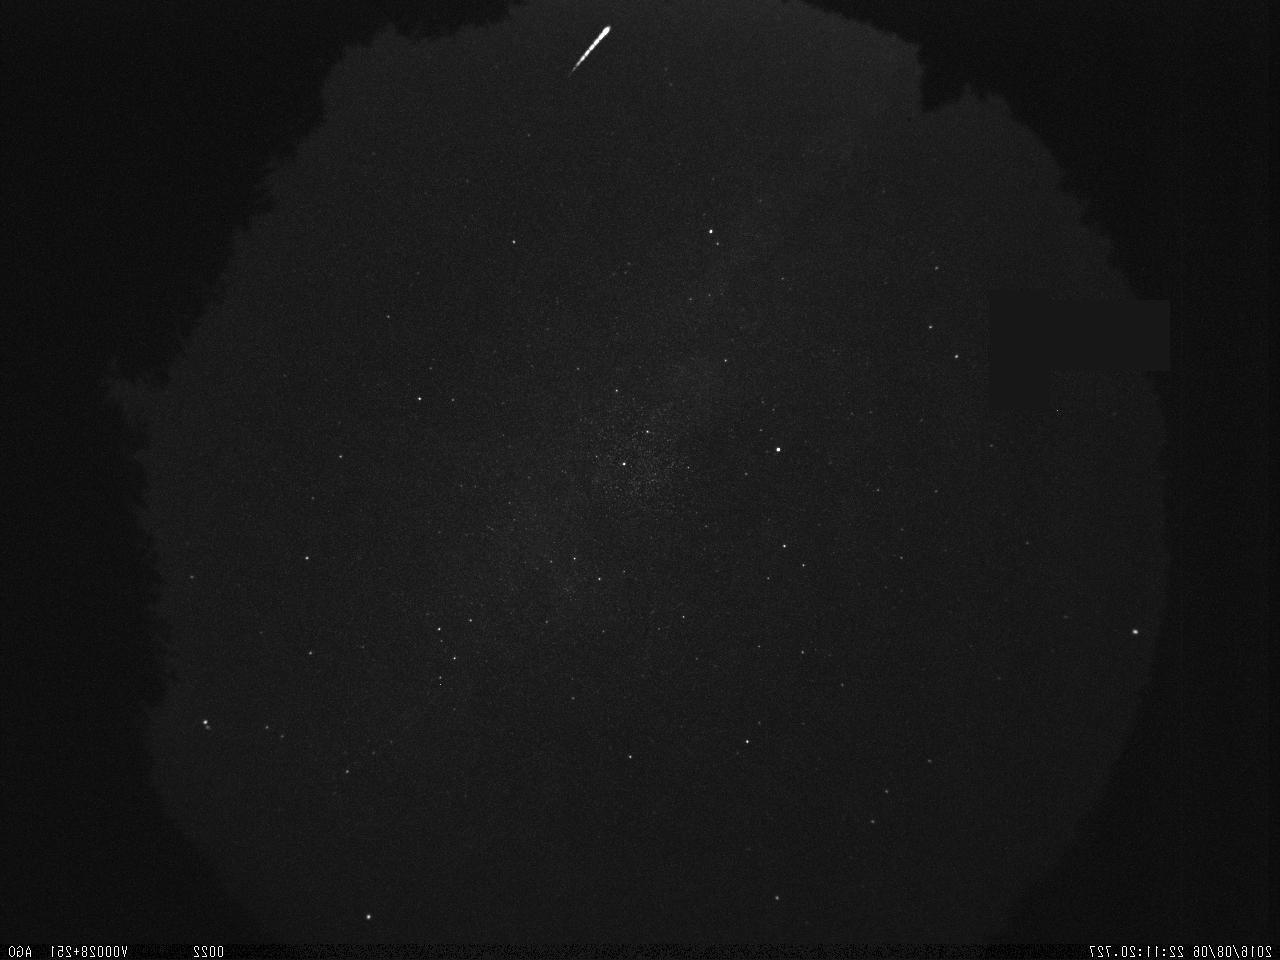meteor: (554, 5, 643, 89)
